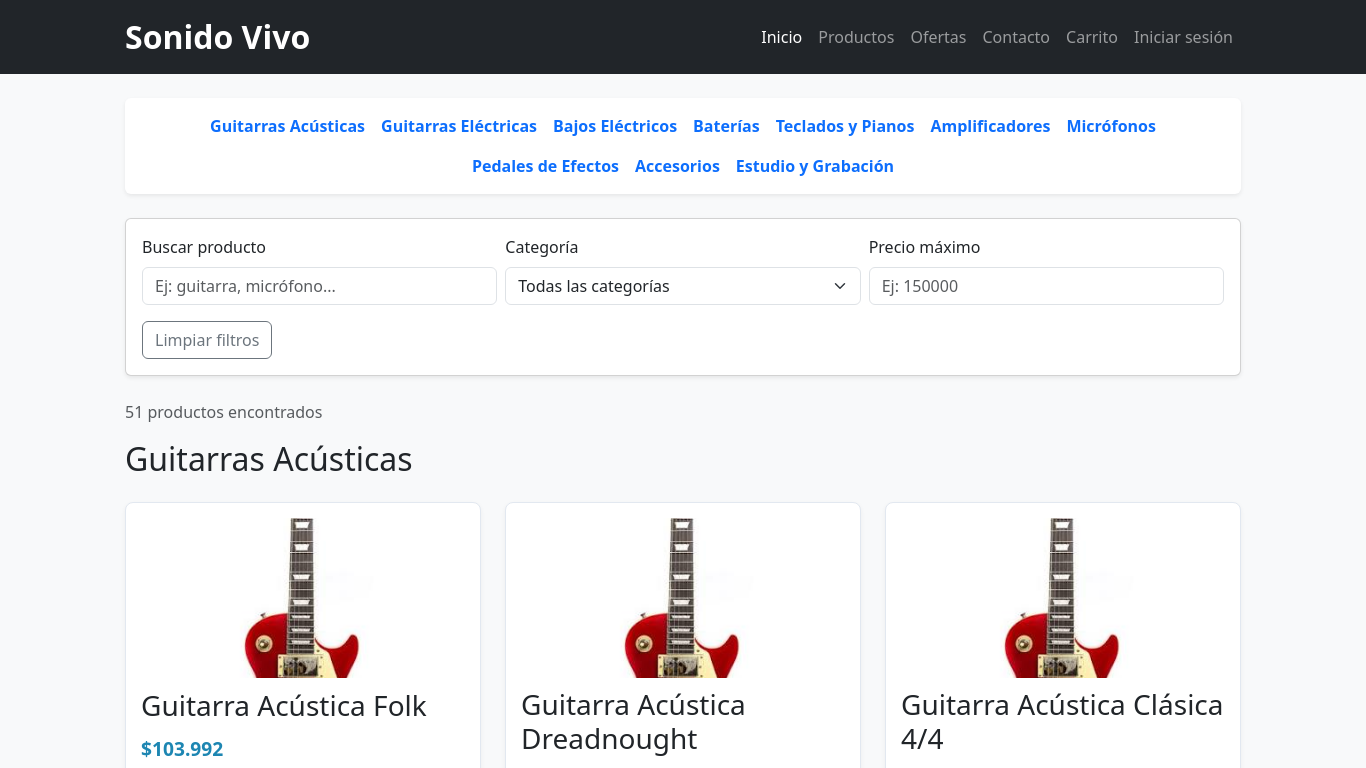
Test: filtros de búsqueda › muestra un mensaje cuando nada coincide
In the field labelled "Buscar producto": (320, 286) x1=142 y1=267 x2=497 y2=305, type "zzzz"
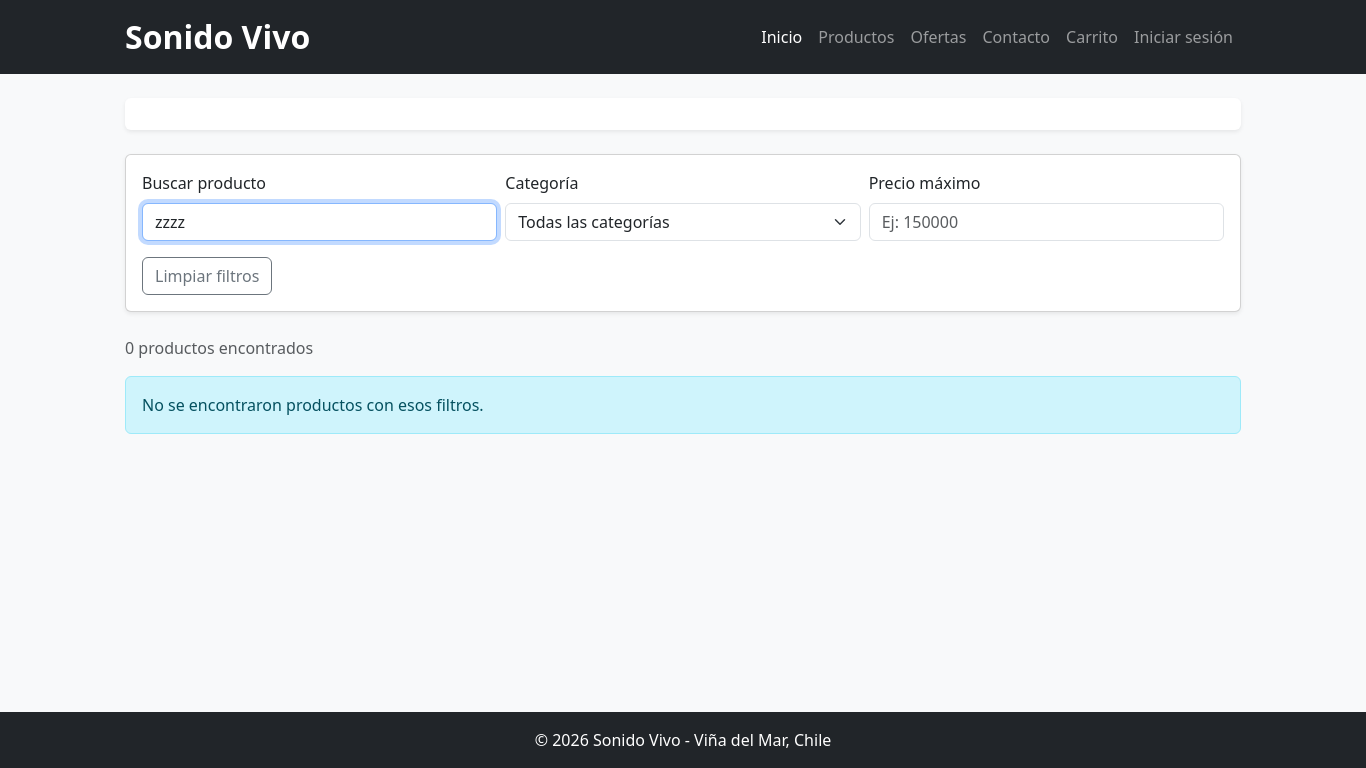
Result: the text "No se encontraron productos con esos filtros." is shown at x1=125 y1=376 x2=1241 y2=434
Result: the message reads "0 productos encontrados" at x1=125 y1=337 x2=313 y2=359
